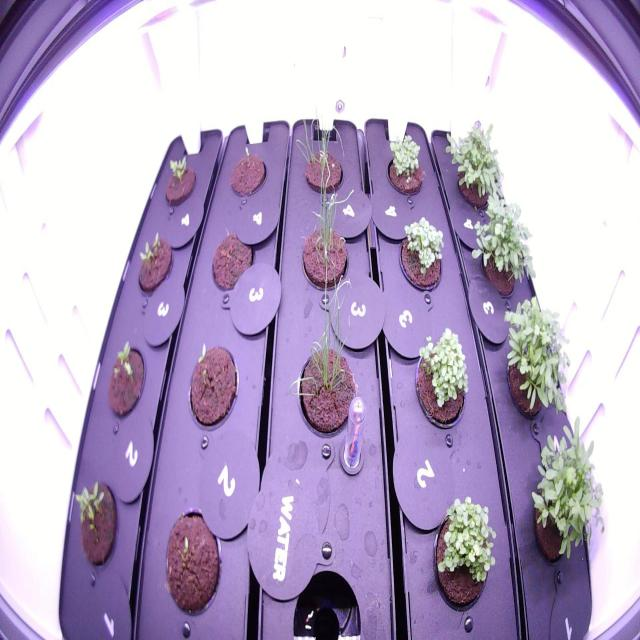germination: (286, 249, 364, 453), (424, 490, 500, 618), (154, 494, 228, 624), (296, 156, 354, 301), (408, 322, 476, 438), (179, 332, 245, 440), (292, 89, 349, 205), (69, 470, 123, 578), (100, 336, 149, 433), (396, 212, 446, 298), (131, 222, 178, 301), (383, 126, 429, 201), (224, 140, 270, 208), (157, 147, 200, 215)
pod: (206, 222, 258, 304)
